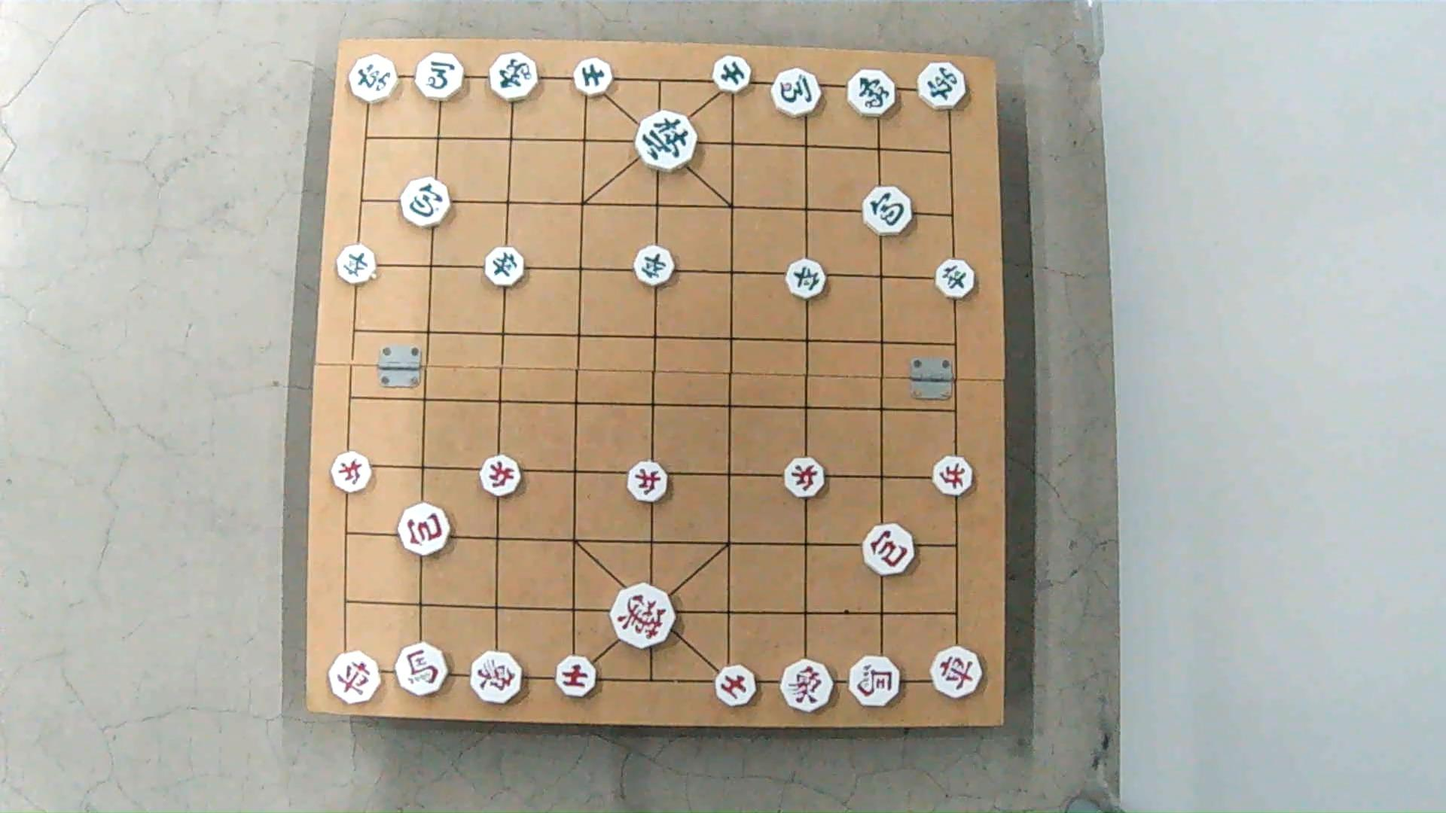cha_green: (346, 53, 399, 105), (918, 61, 967, 111)
cha_red: (329, 652, 383, 705), (932, 646, 984, 698)
jol_green: (633, 248, 676, 286), (482, 248, 523, 287), (786, 260, 828, 298), (936, 261, 977, 299), (338, 247, 379, 284)
jol_red: (626, 464, 668, 504), (328, 452, 371, 491), (932, 456, 975, 495), (785, 460, 827, 499), (478, 458, 520, 497)
ma_green: (773, 69, 825, 116), (413, 56, 465, 102)
ma_red: (396, 641, 447, 696), (849, 650, 899, 703)
po_green: (861, 187, 913, 233), (398, 181, 449, 227)
po_red: (862, 527, 915, 577), (397, 505, 449, 555)
sa_green: (575, 61, 616, 96), (712, 58, 752, 93)
sa_red: (553, 655, 595, 697), (716, 662, 753, 702)
sang_green: (843, 67, 901, 117), (490, 53, 540, 105)
sang_red: (472, 650, 523, 705), (782, 657, 833, 711)
wang_green: (632, 113, 696, 169)
wang_red: (614, 588, 679, 649)
